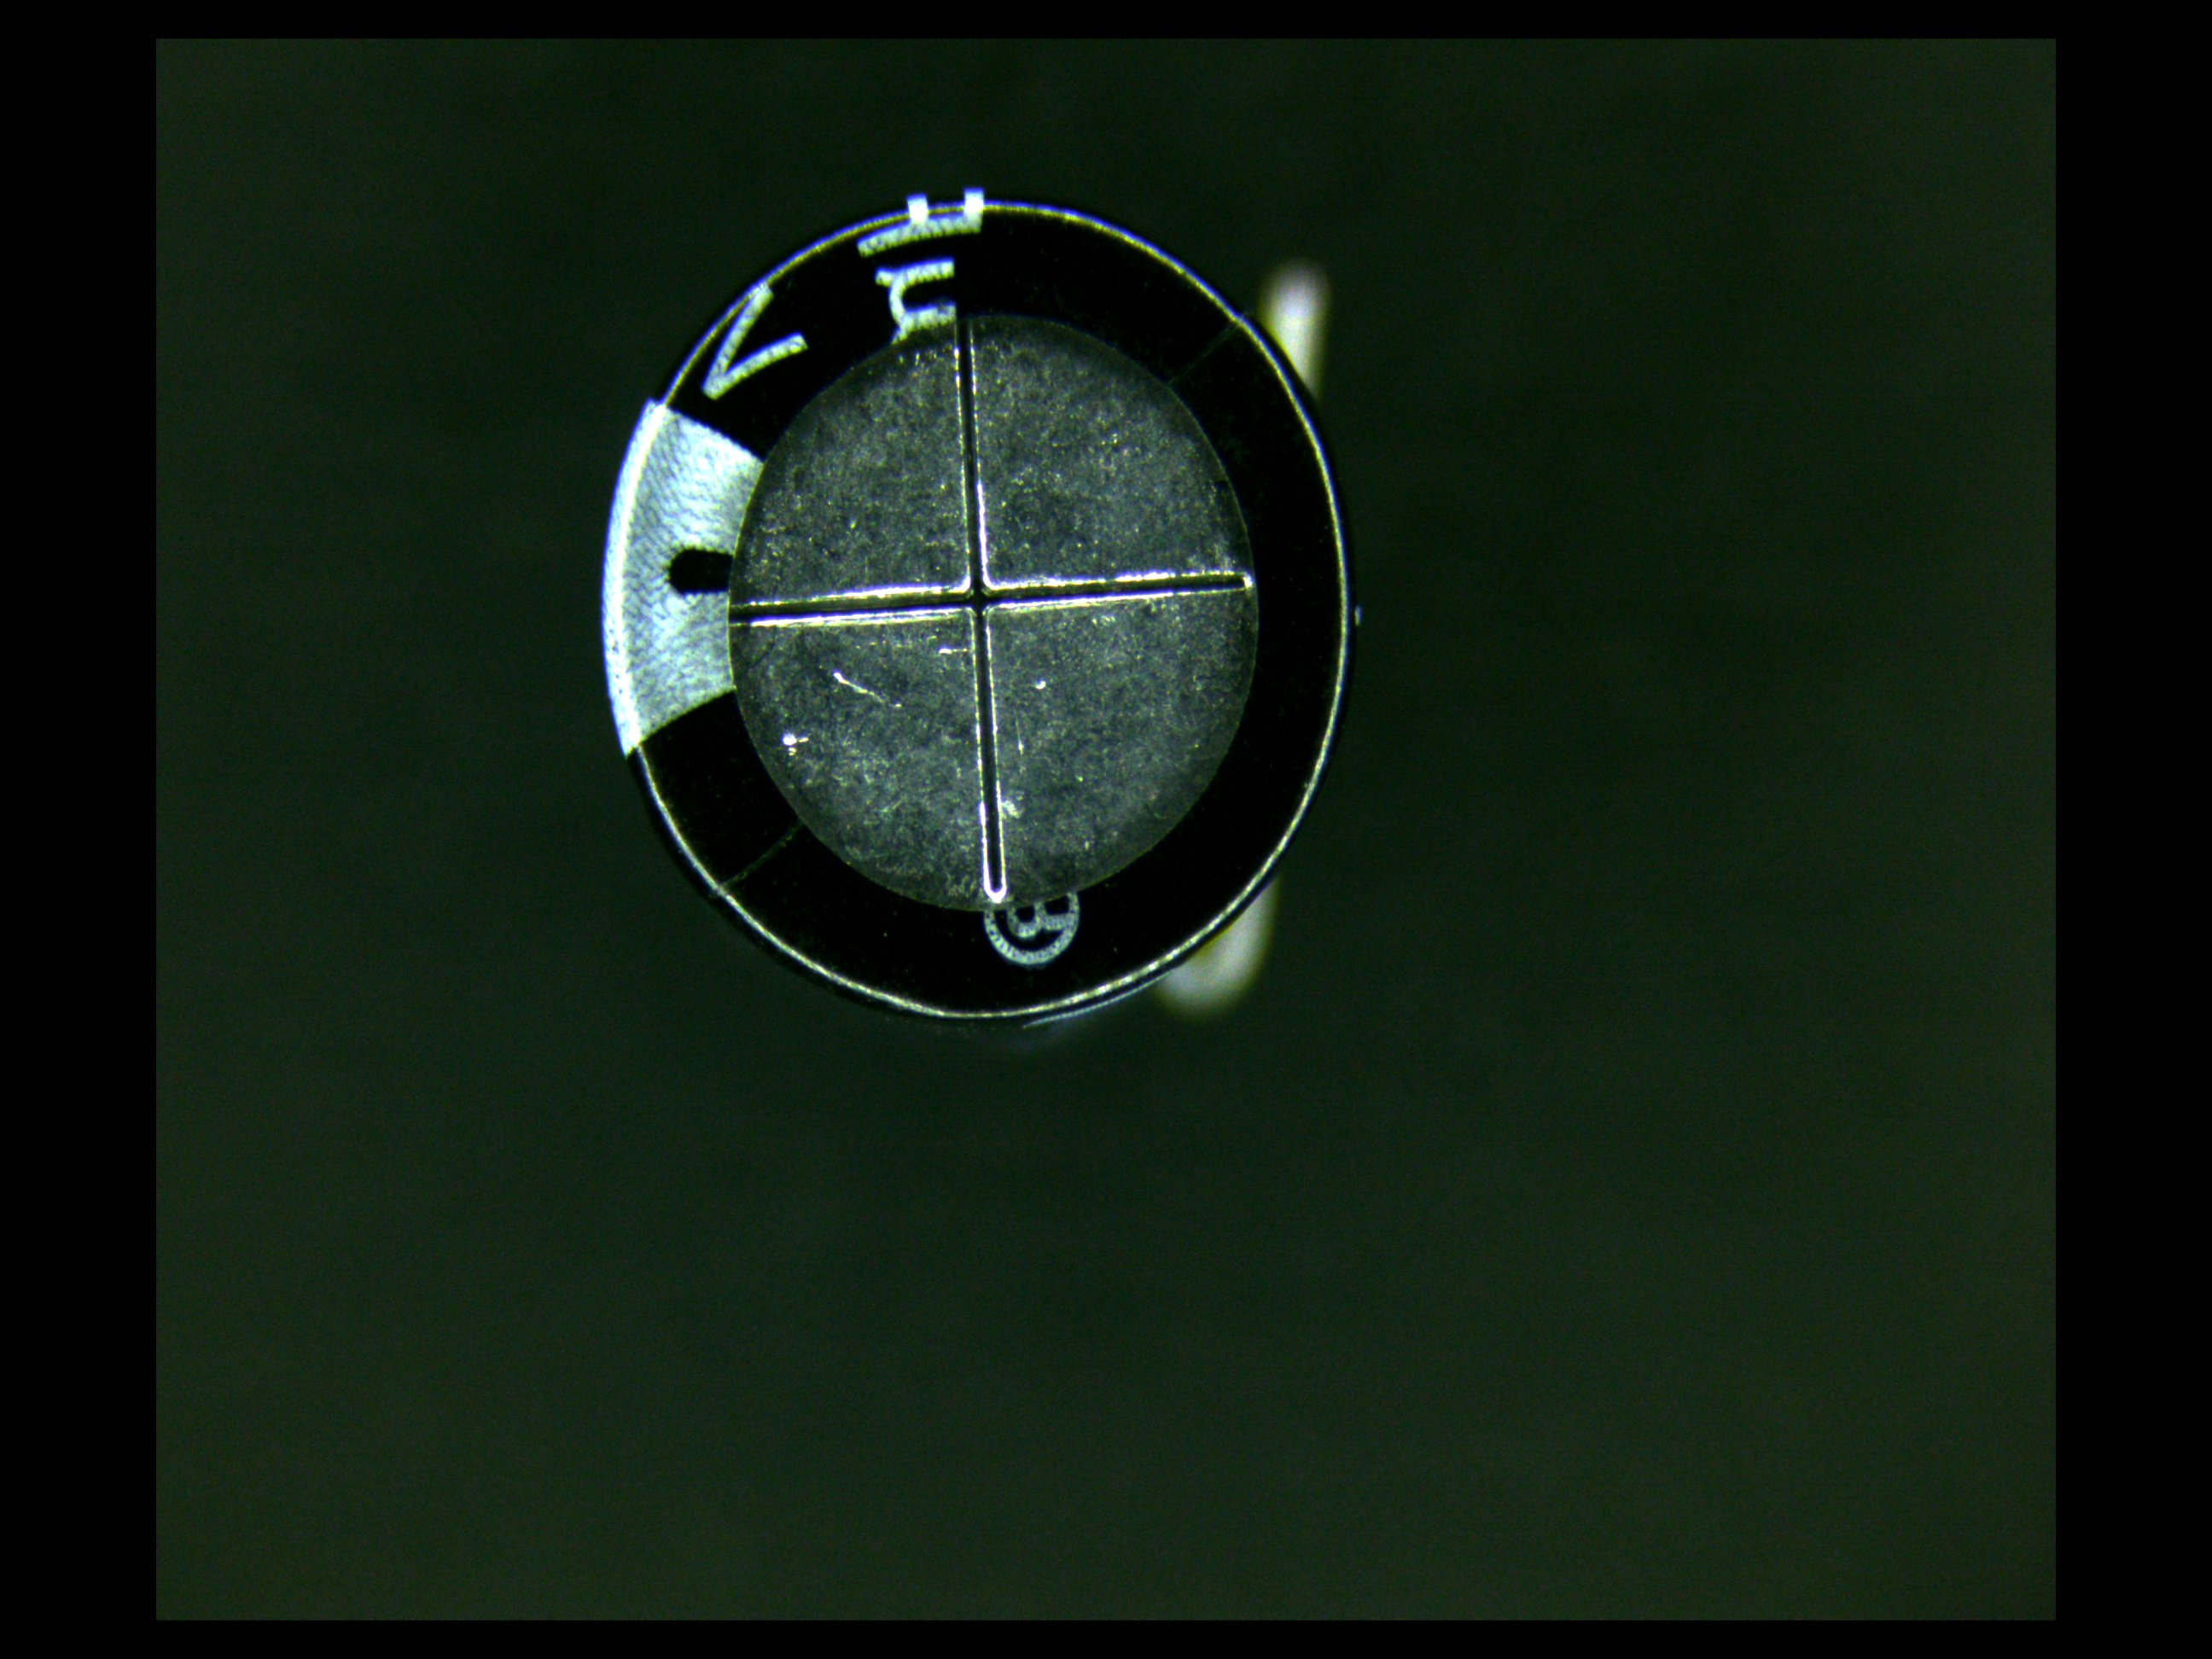c3: (596, 167, 1352, 1030)
